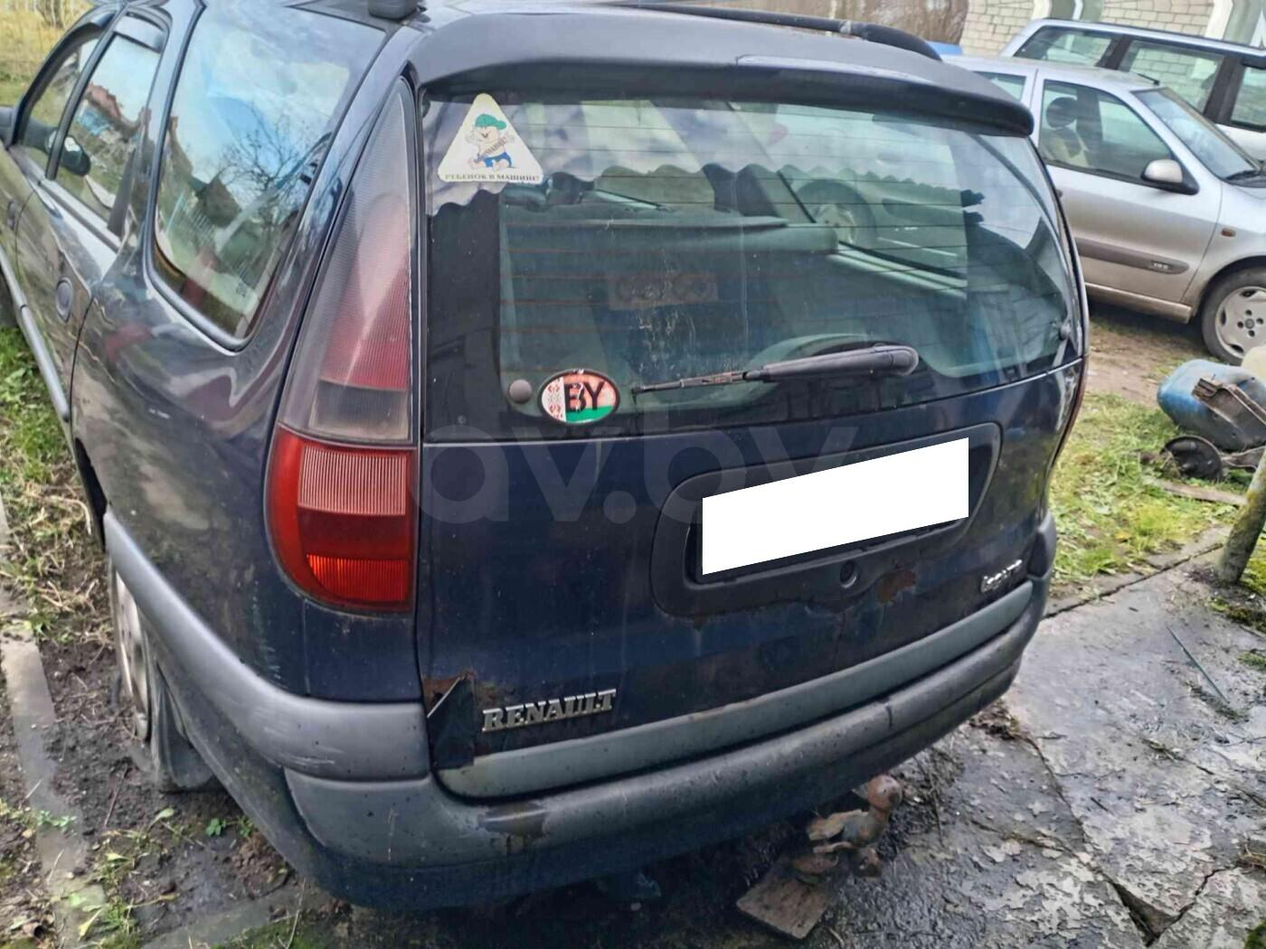Lahuna_1993-1999: (0, 0, 1094, 923)
